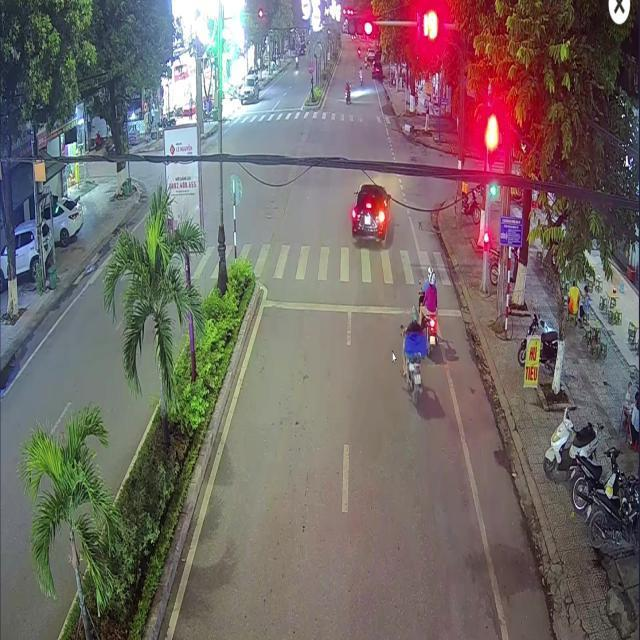car: (350, 183, 389, 241)
motobike: (401, 331, 425, 402), (420, 312, 437, 356)
red_light: (347, 17, 372, 35), (486, 133, 495, 167), (483, 232, 487, 251)
stop_line: (263, 299, 463, 316)
